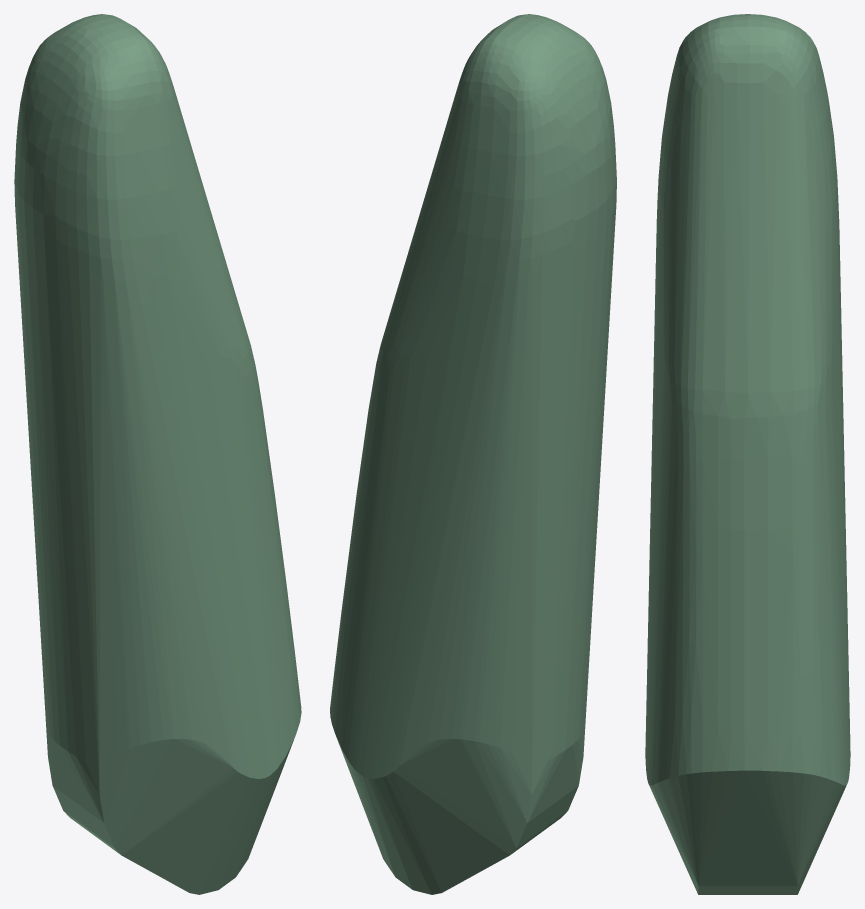
File: right_middle_intermediate.obj
3 renders of one model, left to right at view 1: azimuth 30°, elevation 25°; view 2: azimuth 150°, elevation 25°; view 3: azimuth 270°, elevation 25°, orthographic. The views are drawn at different scales.
Visible parts, largest first — view 1: geometry_0; view 2: geometry_0; view 3: geometry_0.
Boxes of the visible parts, bbox=[...] form: geometry_0: bbox=[14, 14, 301, 894]; geometry_0: bbox=[330, 14, 616, 894]; geometry_0: bbox=[645, 14, 850, 894].
Bounding box in the file's own units: 0.017 × 0.0565 × 0.0126.
